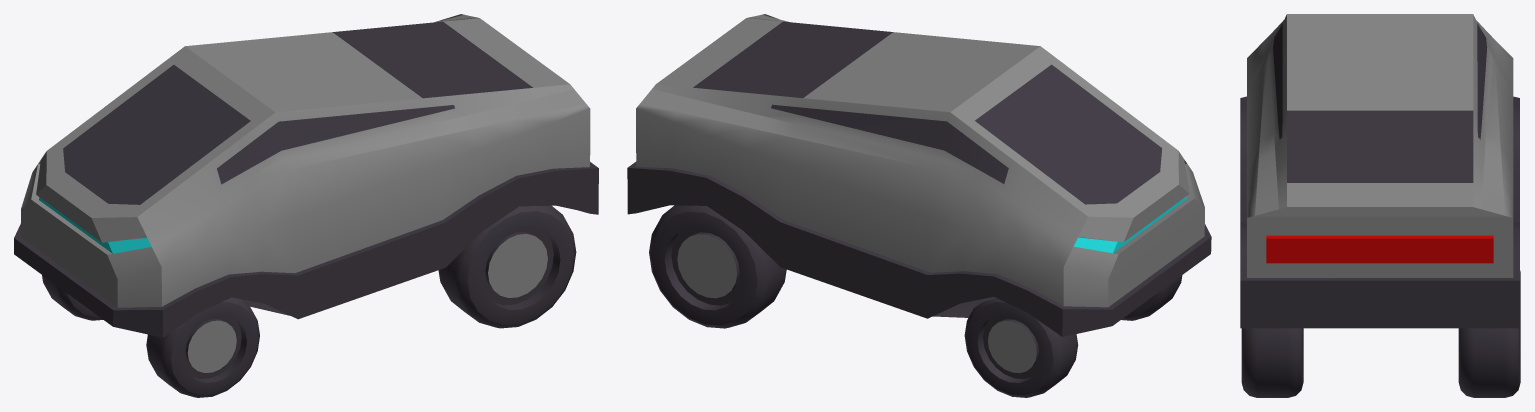
File: Car4.fbx
3 views of the same model, side by side, from view 1: azimuth 30°, elevation 25°; view 2: azimuth 150°, elevation 25°; view 3: azimuth 270°, elevation 25° (orthographic). The views are drawn at different scales.
Visible parts, largest first — view 1: Car_4; view 2: Car_4; view 3: Car_4.
Part boxes in pixels (x1,y1,x2,y2): Car_4: (14, 14, 598, 397); Car_4: (627, 14, 1211, 397); Car_4: (1240, 14, 1520, 397).
Size of the model in its own units: 452 by 238 by 228.
